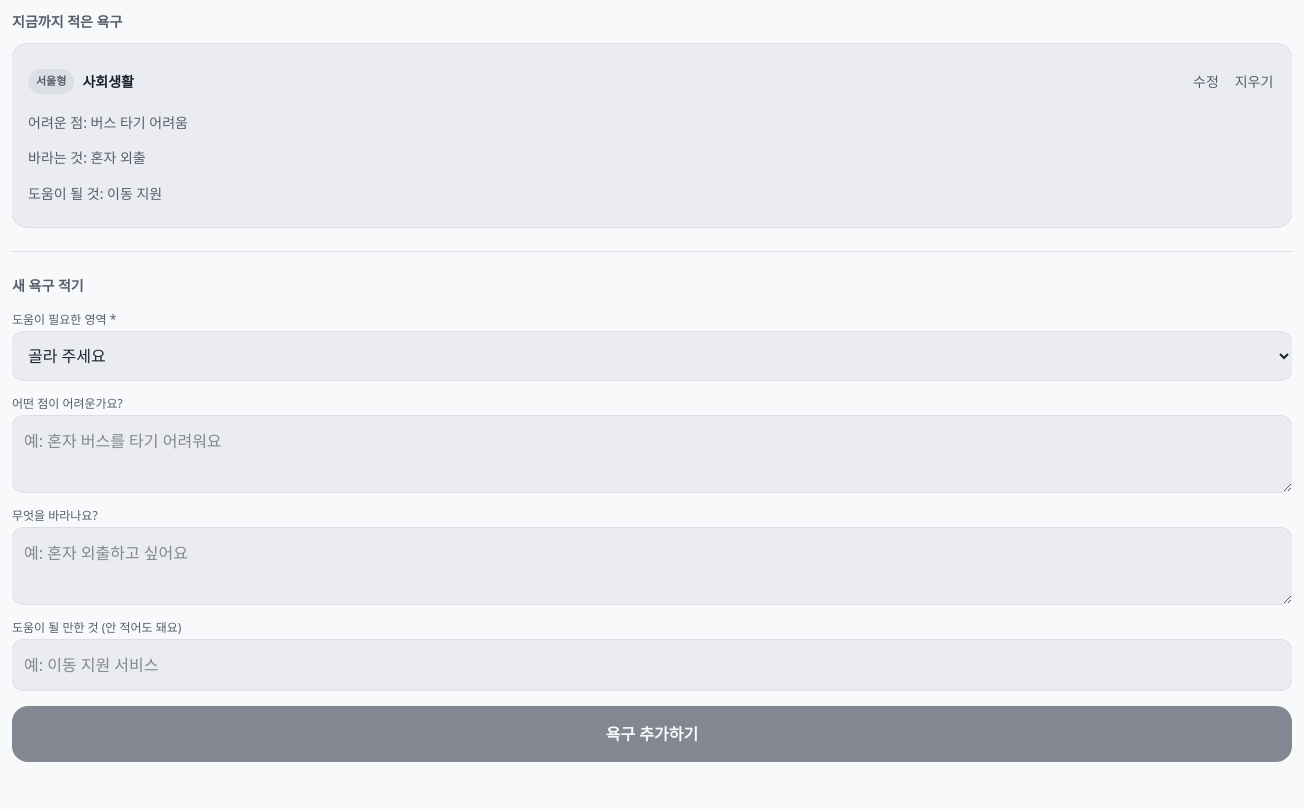
Test case: AssessmentClient — 욕구사정 수정 › 수정을 누르면 현재 값으로 채워진 편집 폼이 열린다
This screenshot has width=1304, height=809.
Click the button "수정": (1206, 82) [1184,60,1228,104]
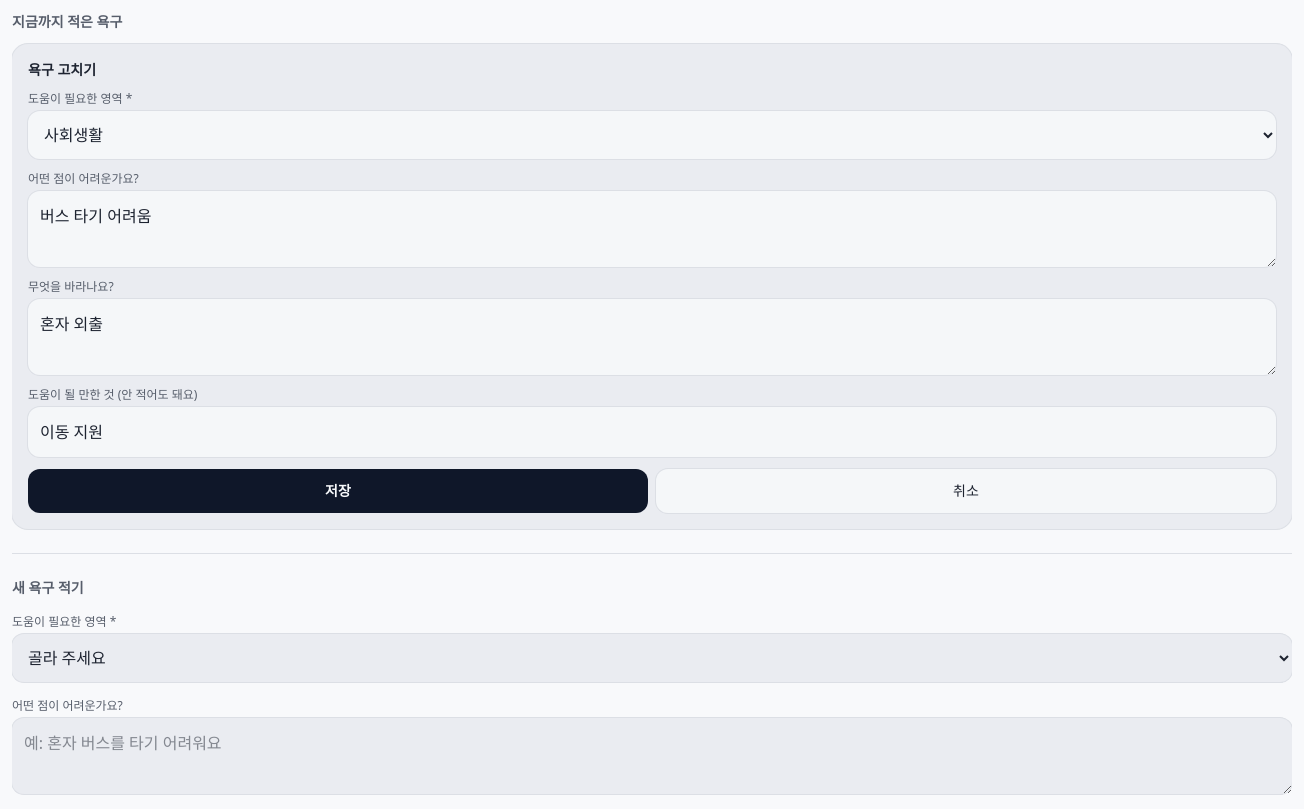
expect the text box showing "버스 타기 어려움" below "욕구 고치기" is shown: met, box [28,191,1276,267]
expect the text box showing "혼자 외출" is shown: met, box [28,299,1276,375]
